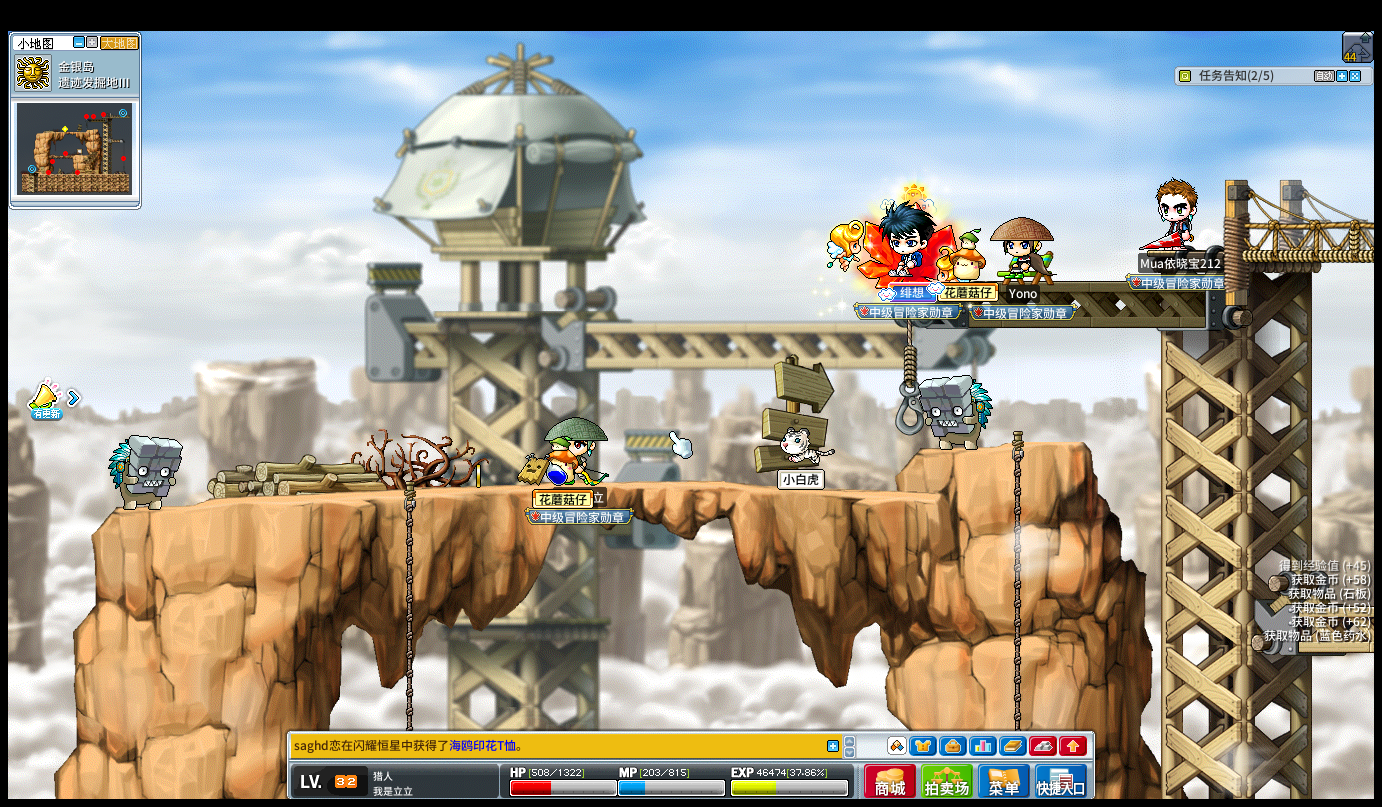floor: (111, 477, 975, 507), (101, 479, 970, 499), (918, 437, 1089, 451), (918, 440, 1088, 454)
monster: (107, 434, 182, 511), (922, 374, 993, 451), (622, 421, 691, 485)
rope: (401, 472, 415, 807), (1009, 428, 1024, 725), (403, 476, 415, 705)
